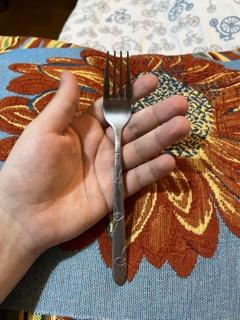fork: (100, 47, 134, 288)
